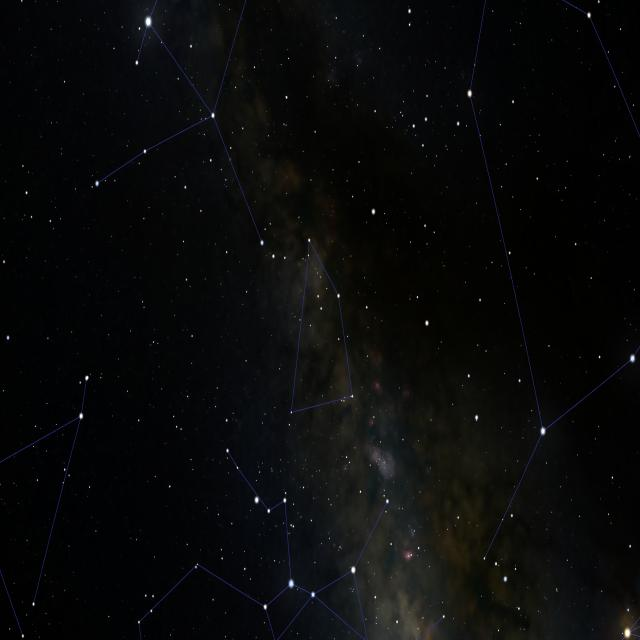Scutum: (283, 233, 369, 427)
